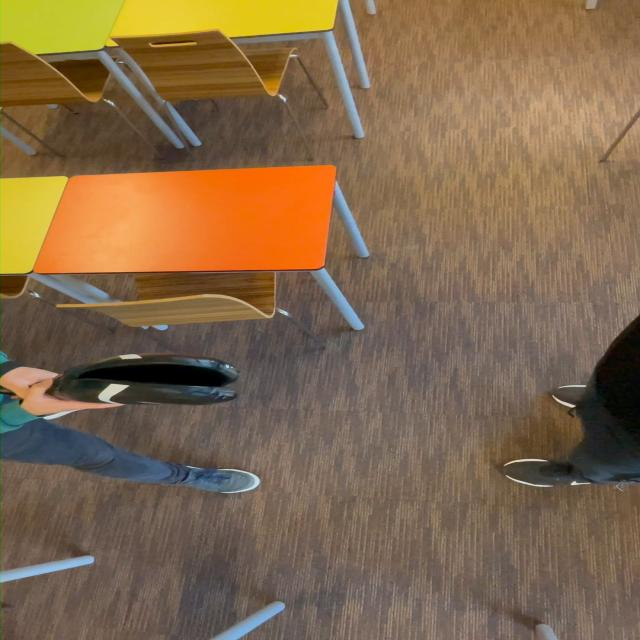paddle: (51, 354, 237, 406)
